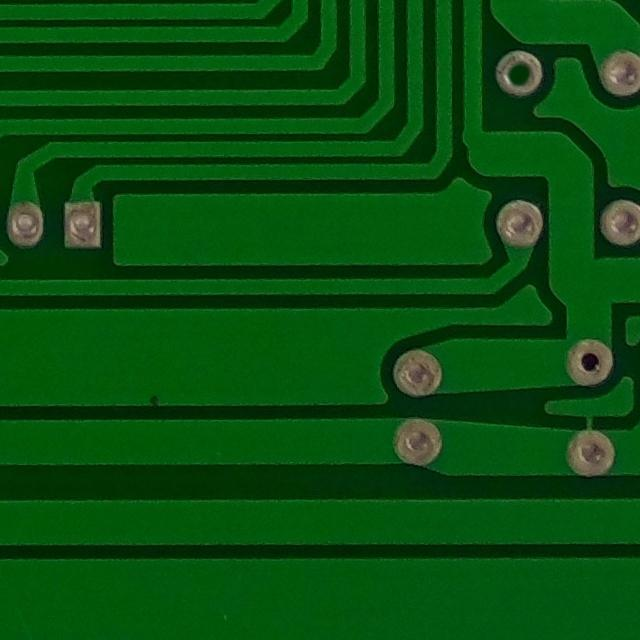missing_hole: (484, 39, 561, 111)
